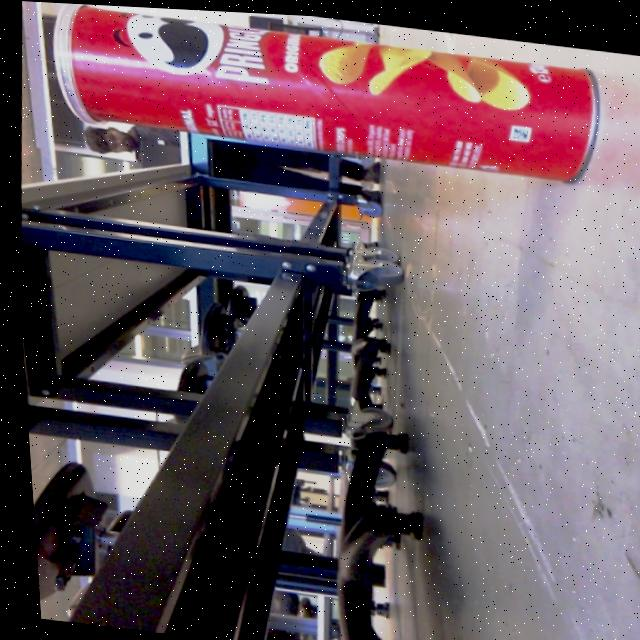redpringles: (25, 1, 616, 217)
